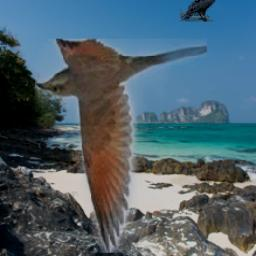Crow: (181, 0, 220, 23)
Cuckoo: (36, 40, 208, 254)
